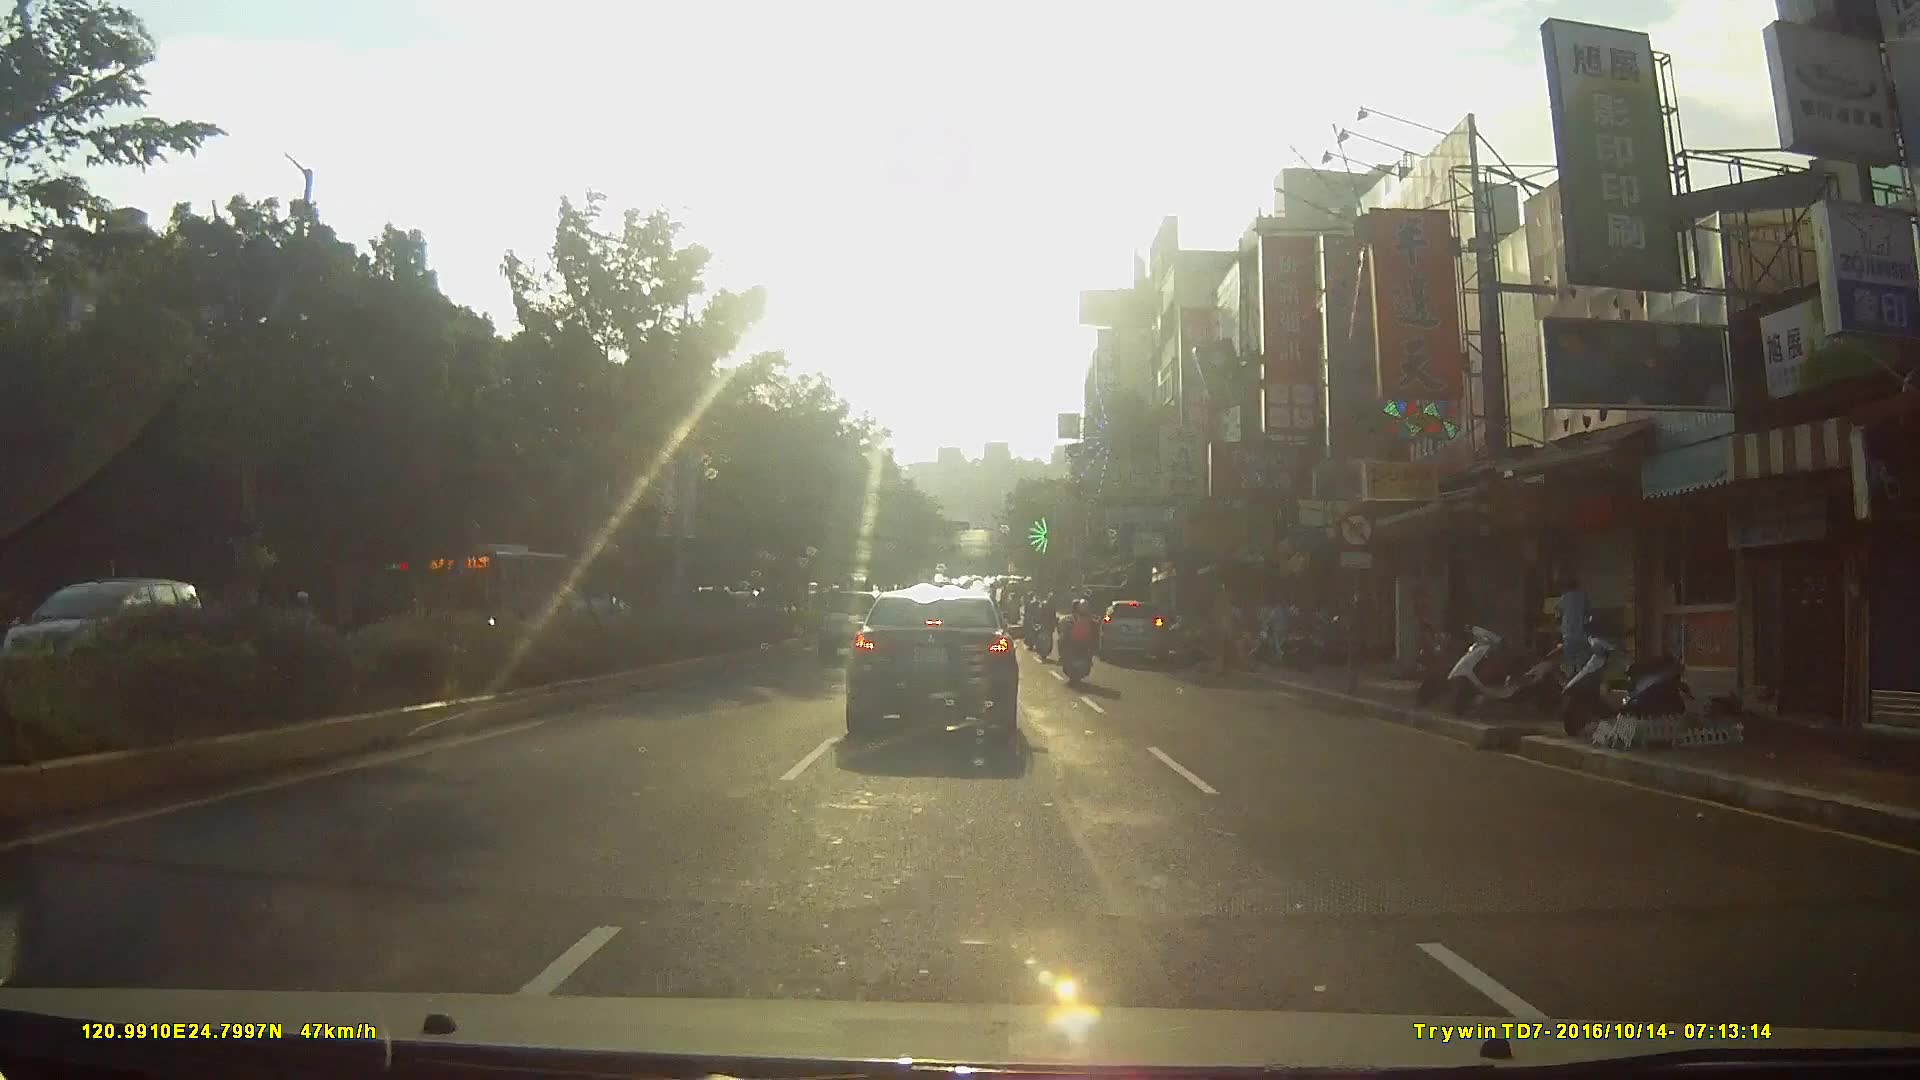pedestrian: (1542, 577, 1587, 691)
rider: (1058, 610, 1102, 707), (1027, 594, 1058, 664)
vehicle: (840, 590, 1033, 758), (1094, 597, 1174, 673)
